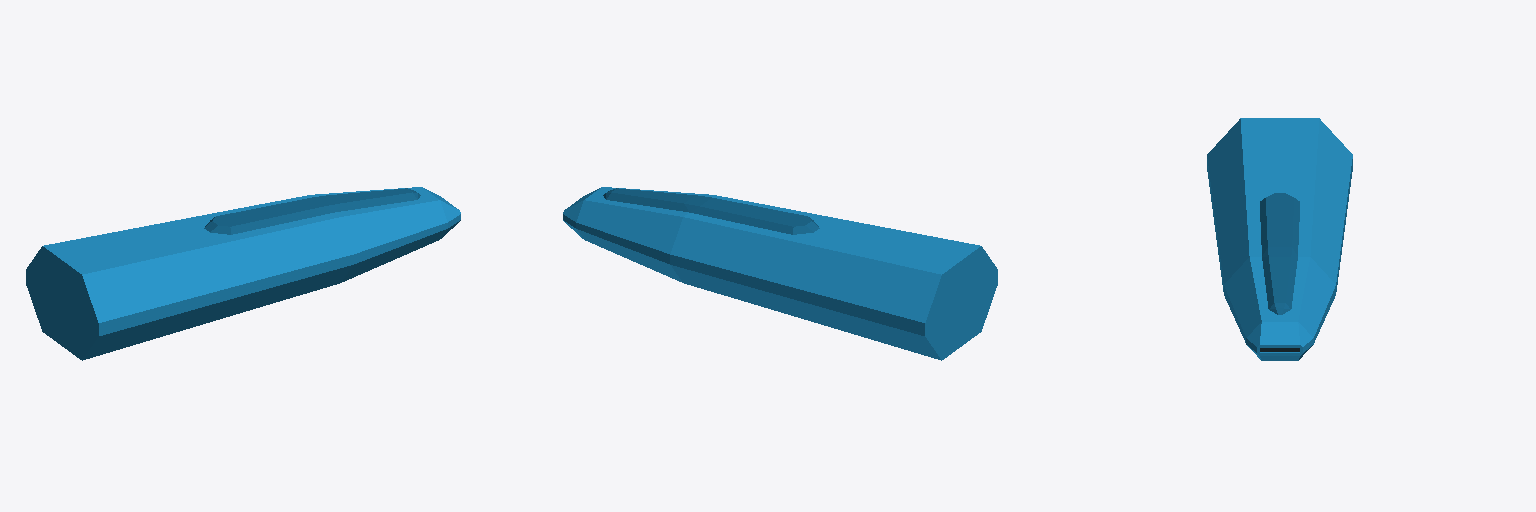
The model's file is Spacestation_Structure_Fuselage_Narrow_Front.obj.
3 views of the same model, side by side, from view 1: azimuth 30°, elevation 25°; view 2: azimuth 150°, elevation 25°; view 3: azimuth 270°, elevation 25° (orthographic).
Parts seen in each view (by area): view 1: object2, object3; view 2: object2, object3; view 3: object2, object3.
Part boxes in pixels (x1,y1,x2,y2): object2: (26,187,460,360); object3: (204,188,420,234); object2: (563,187,997,360); object3: (603,188,819,234); object2: (1207,118,1352,360); object3: (1260,193,1299,314).
Size of the model in its own units: 3.68 by 0.78 by 1.2.